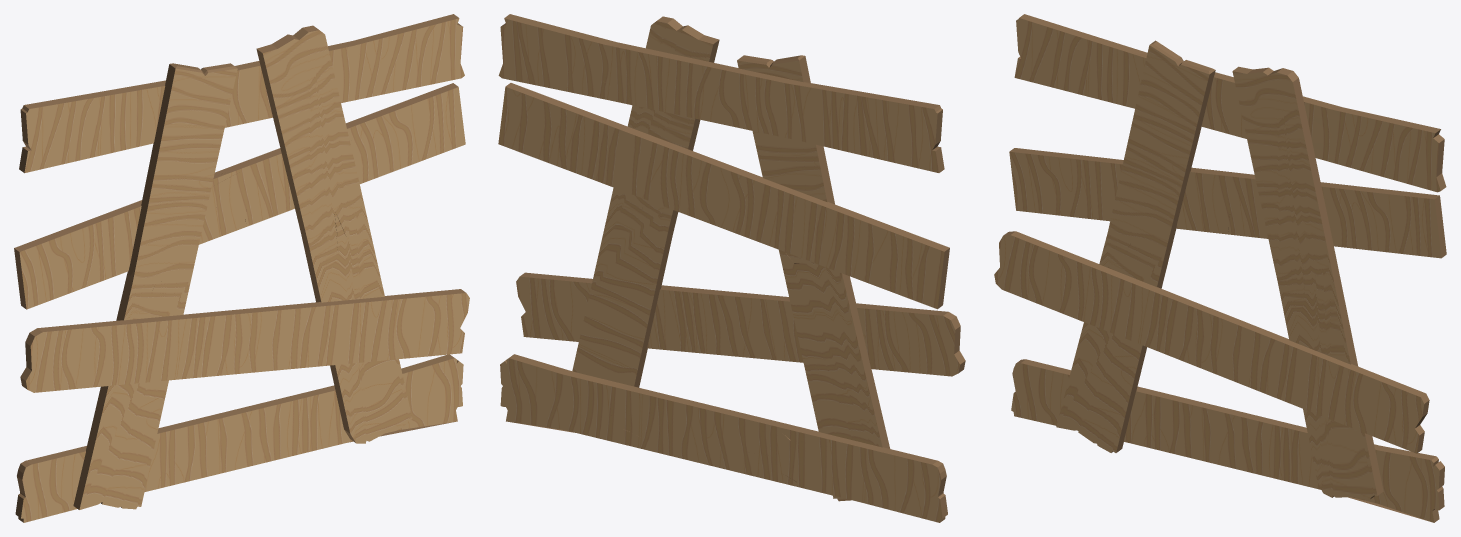
File: door_DestructiblePlank.fbx
3 renders of one model, left to right at view 1: azimuth 30°, elevation 25°; view 2: azimuth 150°, elevation 25°; view 3: azimuth 330°, elevation 25°, orthographic. The views are drawn at different scales.
Parts seen in each view (by area): view 1: plank_2, plank_4, plank_5, plank_21.002, plank_41, plank_51, plank_31.001, plank_1, plank_62.002, plank_61.002, plank_32.001, plank_11.002 (+3 smaller); view 2: plank_31.001, plank_41, plank_51, plank_2, plank_6, plank_11.002, plank_1, plank_62.002, plank_21.002, plank_3, plank_32.001, plank_12.002 (+3 smaller); view 3: plank_2, plank_5, plank_21.002, plank_4, plank_41, plank_51, plank_31.001, plank_1, plank_62.002, plank_32.001, plank_61.002, plank_11.002 (+3 smaller).
Boxes of the visible parts, left/top/right/bottom form: plank_2: left=20, top=308, right=280, bottom=392; plank_4: left=129, top=63, right=237, bottom=319; plank_5: left=256, top=25, right=363, bottom=273; plank_21.002: left=238, top=289, right=469, bottom=370; plank_41: left=73, top=221, right=196, bottom=509; plank_51: left=301, top=180, right=412, bottom=443; plank_31.001: left=14, top=168, right=247, bottom=309; plank_1: left=166, top=386, right=346, bottom=480; plank_62.002: left=19, top=80, right=165, bottom=173; plank_61.002: left=332, top=14, right=464, bottom=102; plank_32.001: left=345, top=83, right=465, bottom=183; plank_11.002: left=15, top=420, right=214, bottom=522; plank_31.001: left=702, top=168, right=949, bottom=309; plank_41: left=780, top=253, right=890, bottom=501; plank_51: left=572, top=188, right=673, bottom=387; plank_2: left=702, top=291, right=965, bottom=376; plank_6: left=586, top=42, right=823, bottom=140; plank_11.002: left=743, top=420, right=947, bottom=522; plank_1: left=597, top=384, right=808, bottom=485; plank_62.002: left=777, top=82, right=944, bottom=172; plank_21.002: left=516, top=272, right=747, bottom=355; plank_3: left=587, top=124, right=779, bottom=245; plank_32.001: left=498, top=83, right=665, bottom=185; plank_12.002: left=500, top=354, right=643, bottom=441; plank_2: left=994, top=231, right=1240, bottom=382; plank_5: left=1232, top=66, right=1332, bottom=316; plank_21.002: left=1200, top=309, right=1429, bottom=453; plank_4: left=1107, top=40, right=1215, bottom=276; plank_41: left=1056, top=198, right=1173, bottom=452; plank_51: left=1278, top=236, right=1383, bottom=499; plank_31.001: left=1009, top=148, right=1230, bottom=233; plank_1: left=1155, top=392, right=1317, bottom=487; plank_62.002: left=1014, top=14, right=1147, bottom=108; plank_32.001: left=1320, top=182, right=1446, bottom=258; plank_61.002: left=1309, top=106, right=1446, bottom=192; plank_11.002: left=1011, top=359, right=1198, bottom=454.
Bounding box in the file's own units: 2.85 × 2.63 × 0.1847.
